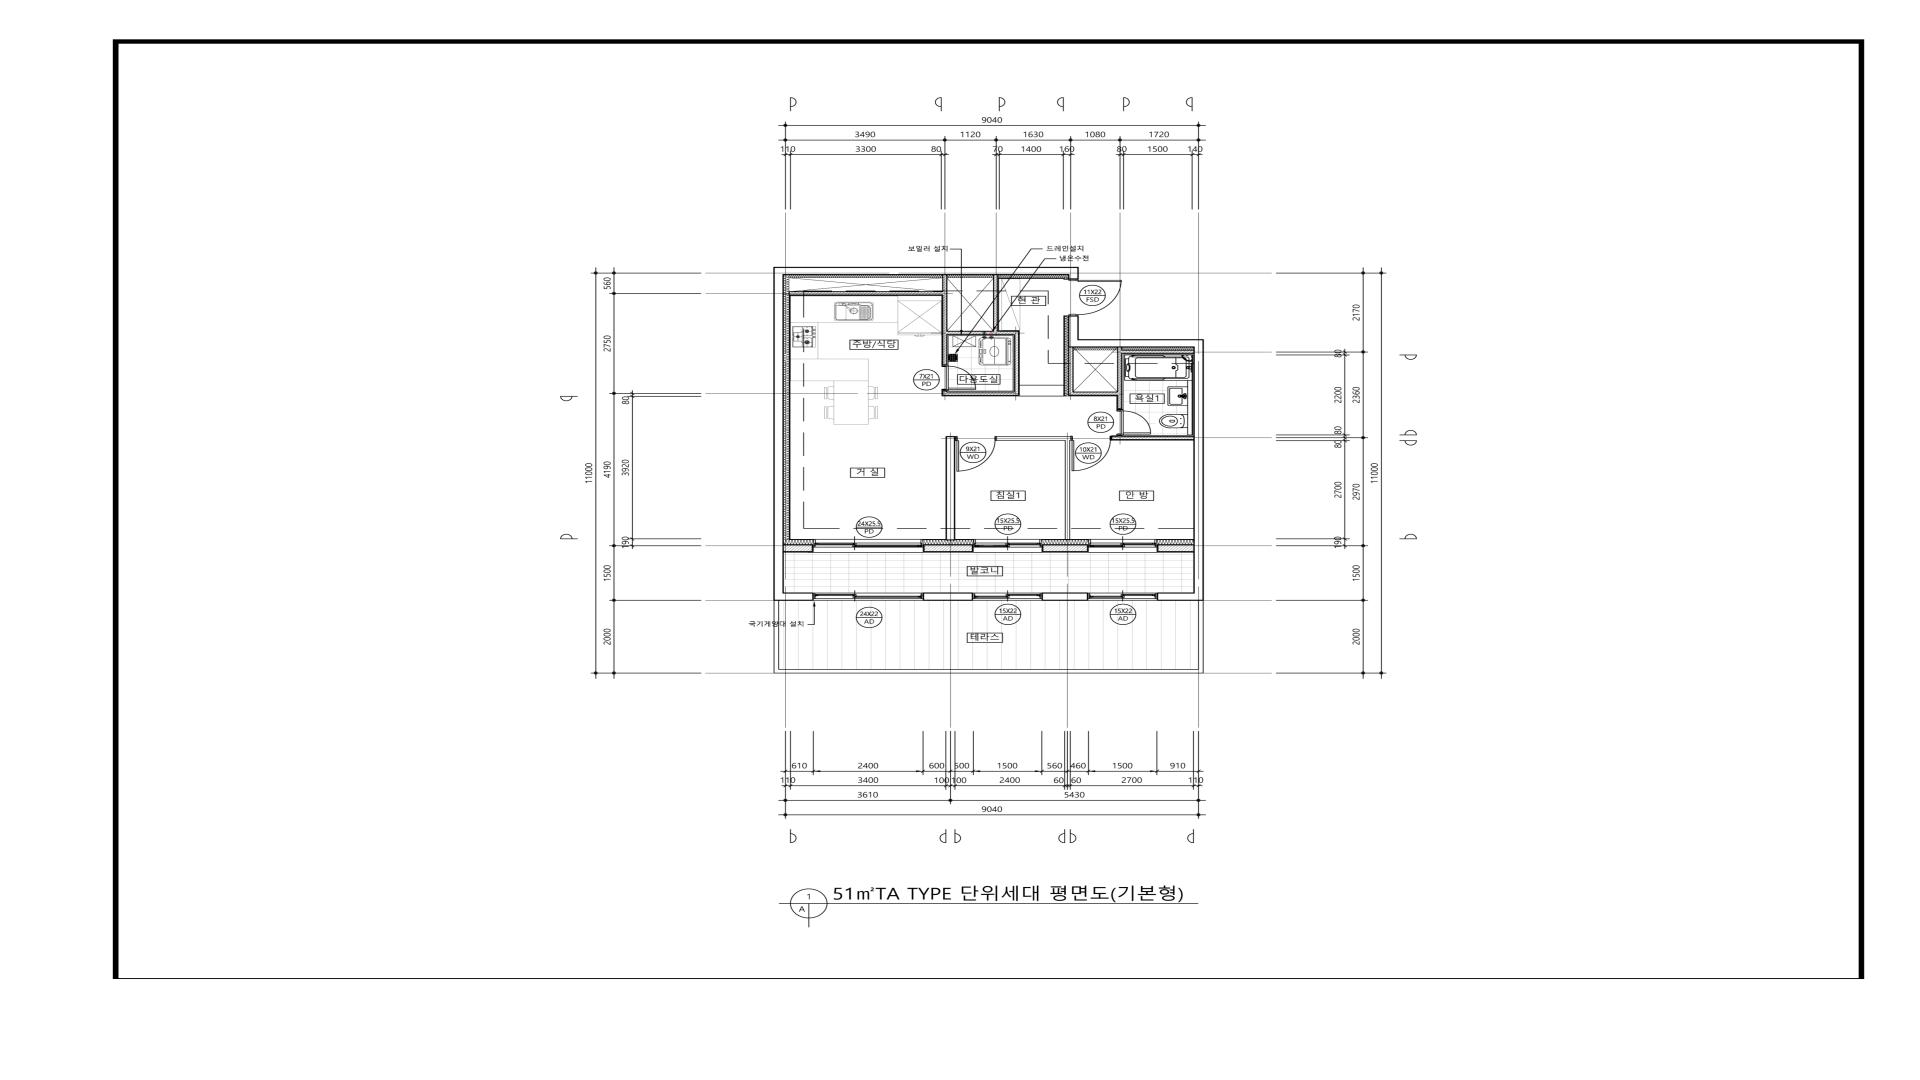door: (1068, 280, 1122, 315), (1071, 435, 1112, 471), (956, 436, 996, 472), (942, 365, 977, 390), (1117, 410, 1151, 435)
wall: (773, 276, 783, 601), (774, 266, 1079, 276), (1193, 339, 1204, 592), (1068, 339, 1193, 348), (945, 436, 955, 541), (1064, 440, 1071, 539), (789, 291, 943, 295), (942, 276, 947, 365), (923, 592, 973, 601), (1156, 592, 1204, 601), (1112, 435, 1193, 440), (1042, 592, 1088, 601), (923, 545, 973, 553), (1042, 545, 1088, 553), (993, 276, 1000, 331), (1117, 347, 1122, 410), (1014, 330, 1019, 392), (996, 436, 1071, 440), (1156, 545, 1193, 553), (947, 392, 1019, 396), (1122, 349, 1193, 353), (783, 592, 814, 601), (947, 331, 1014, 335), (1068, 315, 1079, 339), (783, 545, 814, 553), (1068, 347, 1073, 392), (1068, 392, 1117, 396), (1068, 276, 1079, 280), (942, 390, 947, 397)
window: (814, 539, 923, 553), (1088, 539, 1156, 553), (973, 539, 1042, 553), (814, 592, 923, 600), (973, 592, 1042, 601), (1088, 592, 1156, 600)
